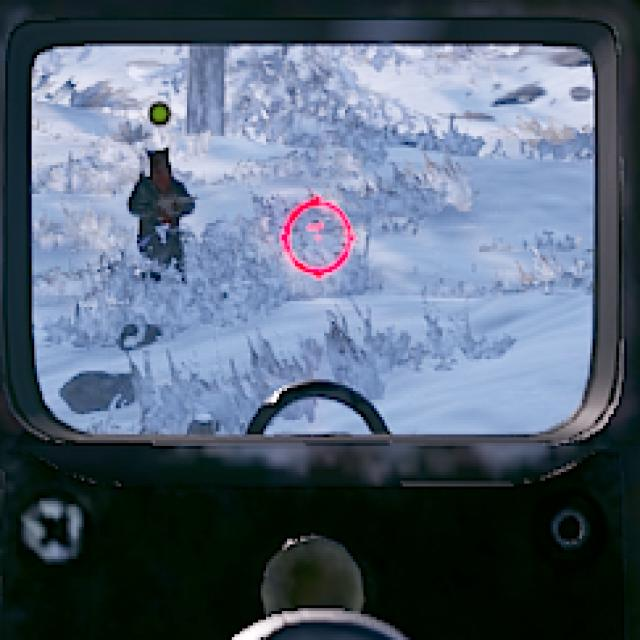Player: (128, 150, 194, 249)
